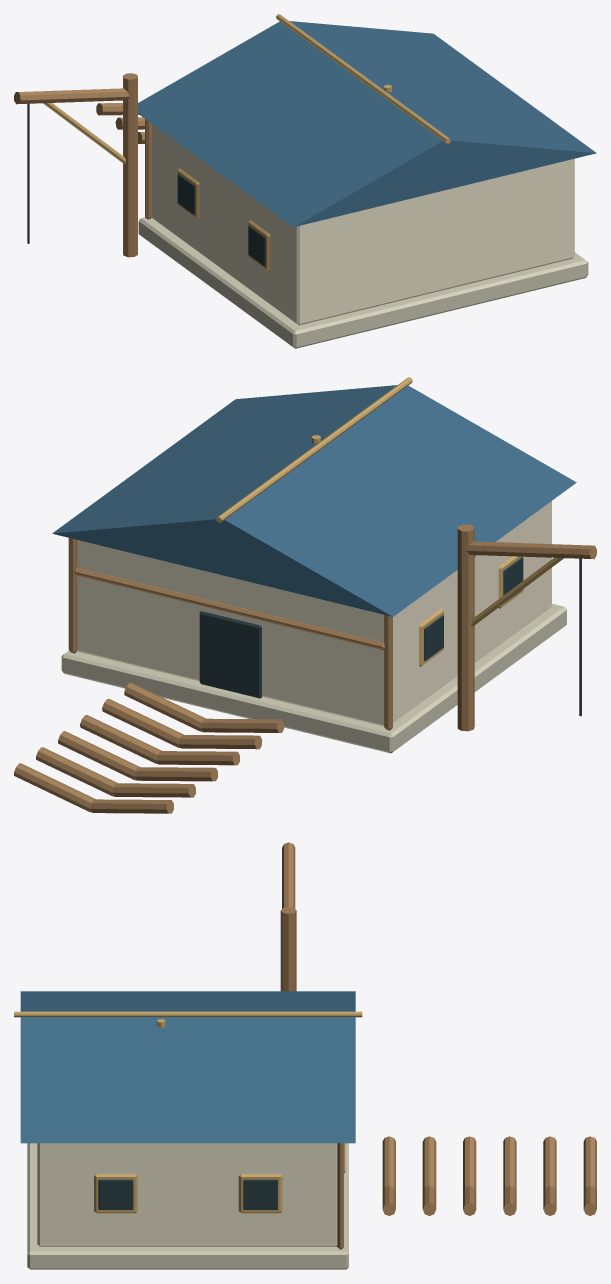
The model's file is level_04.glb.
3 views of the same model, one above another, from view 1: azimuth 30°, elevation 25°; view 2: azimuth 150°, elevation 25°; view 3: azimuth 270°, elevation 25° (orthographic). The views are drawn at different scales.
Parts seen in each view (by area): view 1: shipyard — level 04; view 2: shipyard — level 04; view 3: shipyard — level 04.
Part boxes in pixels (x1,y1,x2,y2): shipyard — level 04: (14,14,596,348); shipyard — level 04: (14,377,596,813); shipyard — level 04: (14,842,596,1269).
Bounding box in the file's own units: 7.95 × 3.42 × 8.7.
